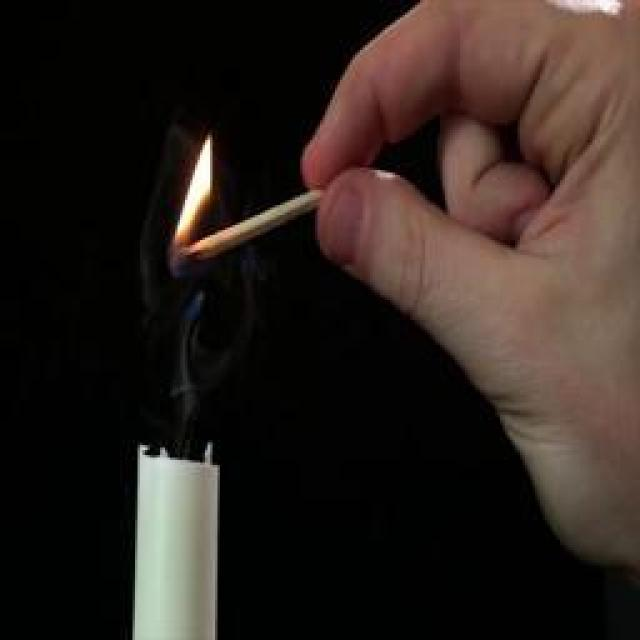Fire: (171, 140, 211, 248)
